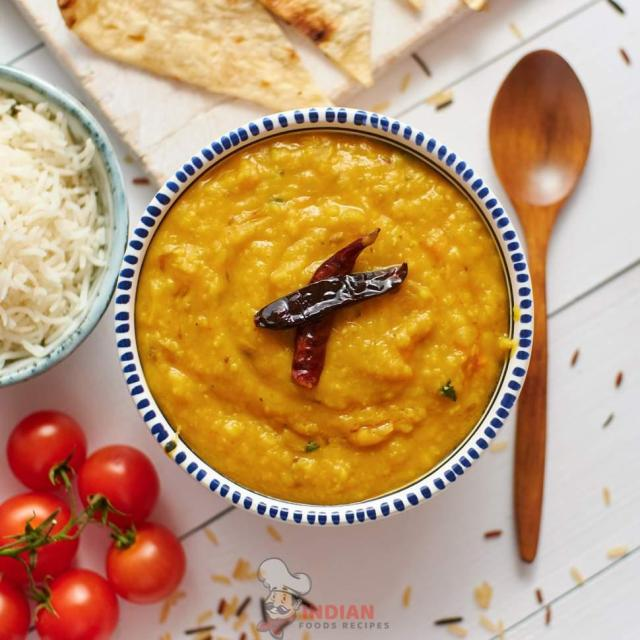dal: (138, 131, 511, 511)
rice: (0, 84, 108, 370)
